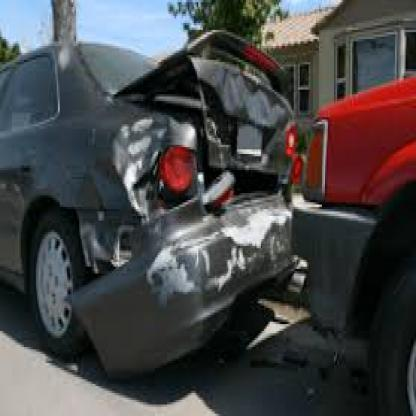accident: (40, 42, 416, 393)
